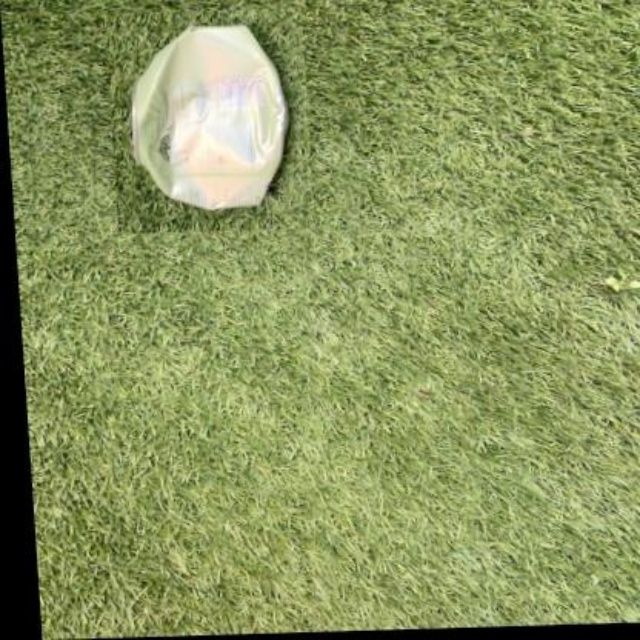trash: (132, 25, 286, 208)
